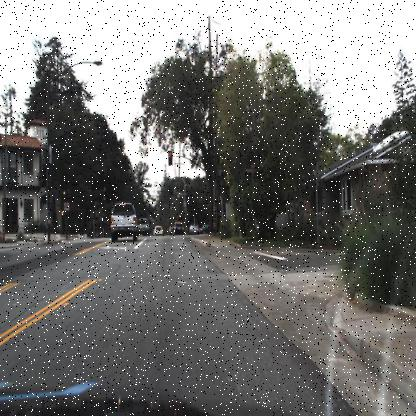car: (109, 203, 137, 243), (136, 218, 148, 236), (172, 220, 184, 236), (189, 223, 199, 233), (154, 225, 163, 235)
trafficLight-Red: (167, 149, 173, 165), (62, 188, 66, 202)
